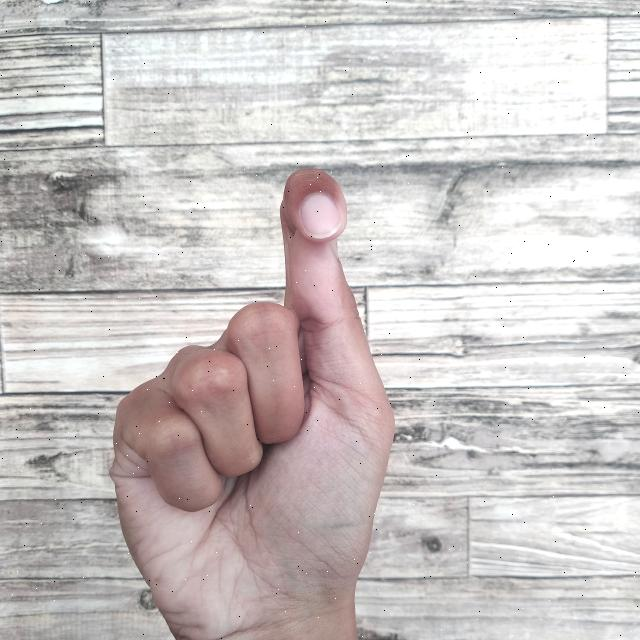T: (108, 164, 398, 640)
